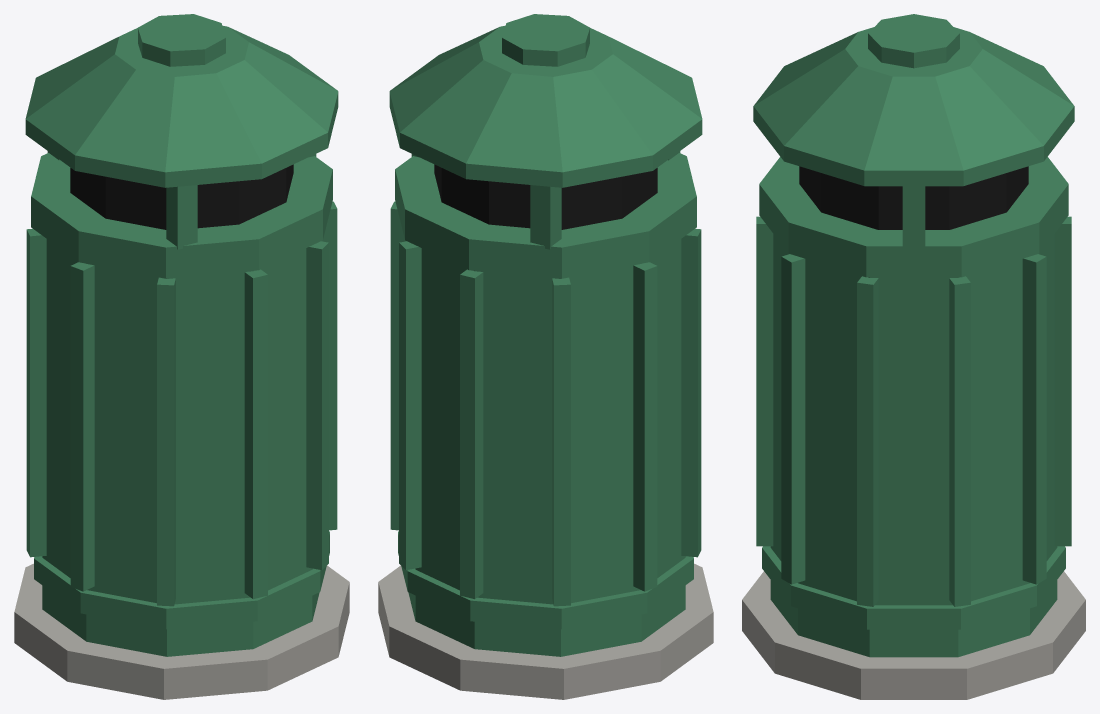
Rendered from park-bin.glb.
3 renders of one model, left to right at view 1: azimuth 30°, elevation 25°; view 2: azimuth 150°, elevation 25°; view 3: azimuth 270°, elevation 25°, orthographic.
Visible parts, largest first — view 1: park-bin; view 2: park-bin; view 3: park-bin.
Part boxes in pixels (x1,y1,x2,y2): park-bin: (14,14,349,699); park-bin: (378,14,713,699); park-bin: (742,14,1085,699).
Bounding box in the file's own units: 0.5706 × 1.15 × 0.6.
